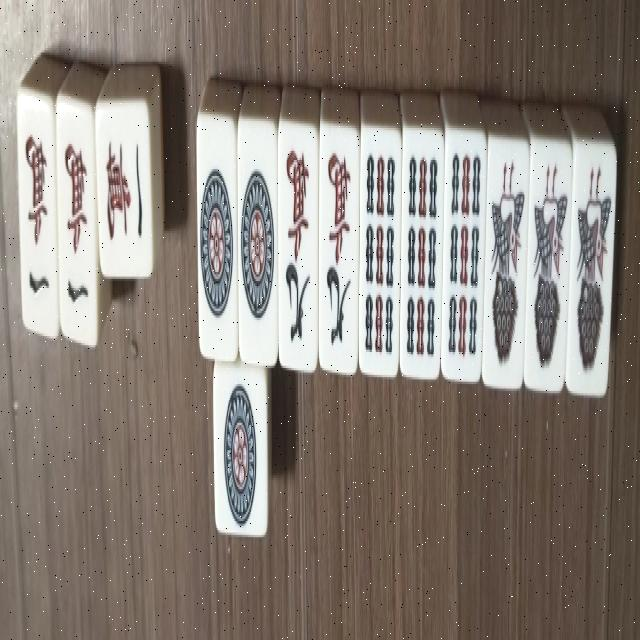bamboos_1: (571, 148, 619, 414), (487, 123, 532, 391), (528, 146, 568, 398)
bamboos_9: (402, 135, 443, 398), (362, 119, 397, 388), (447, 126, 482, 393)
characters_1: (57, 59, 97, 382), (98, 96, 156, 311), (19, 98, 67, 343)
characters_9: (274, 114, 314, 373), (320, 112, 355, 393)
circles_1: (192, 103, 240, 384), (236, 105, 279, 354), (213, 393, 270, 549)
